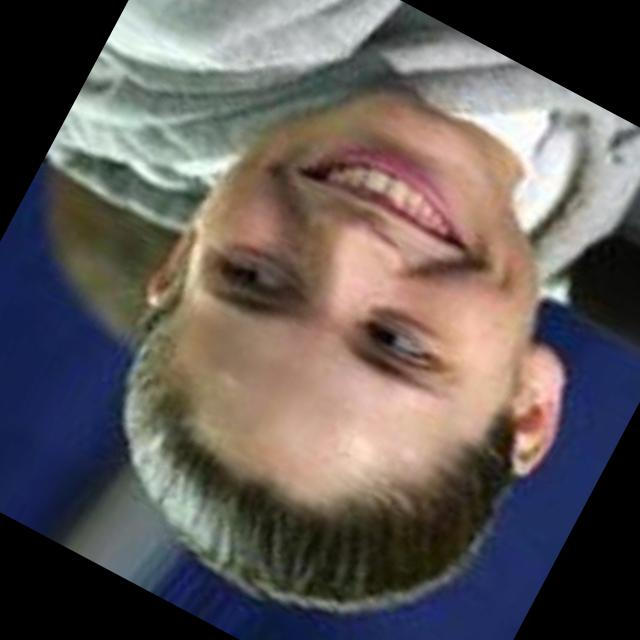bareface: (72, 65, 640, 636)
